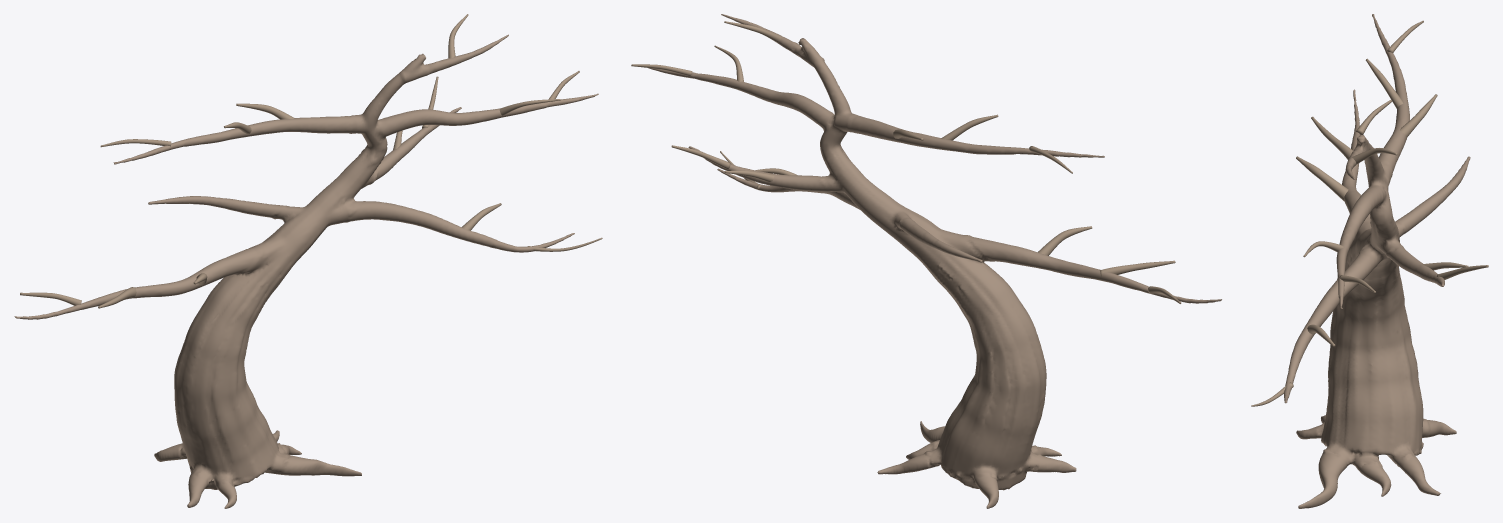
File: pine005-h24-refined.glb
3 renders of one model, left to right at view 1: azimuth 30°, elevation 25°; view 2: azimuth 150°, elevation 25°; view 3: azimuth 270°, elevation 25°, orthographic. The views are drawn at different scales.
Parts seen in each view (by area): view 1: H24__H23_CONTINUOUS_TRUNK_MAJOR_BRANCHES_BUTTRESS_ROOTS; view 2: H24__H23_CONTINUOUS_TRUNK_MAJOR_BRANCHES_BUTTRESS_ROOTS; view 3: H24__H23_CONTINUOUS_TRUNK_MAJOR_BRANCHES_BUTTRESS_ROOTS, H24__H23__TWIG left-3, H24__H23__TWIG upper-left-1, H24__H23__TWIG upper-left-3, H24__H23__TWIG left-1, H24__H23__TWIG apex-1, H24__H23__TWIG middle-right-2.
Part boxes in pixels (x1,y1,x2,y2): H24__H23_CONTINUOUS_TRUNK_MAJOR_BRANCHES_BUTTRESS_ROOTS: (14,34,598,508); H24__H23_CONTINUOUS_TRUNK_MAJOR_BRANCHES_BUTTRESS_ROOTS: (648,14,1221,508); H24__H23_CONTINUOUS_TRUNK_MAJOR_BRANCHES_BUTTRESS_ROOTS: (1284,14,1470,508); H24__H23__TWIG left-3: (1296,156,1348,200); H24__H23__TWIG upper-left-1: (1365,58,1403,108); H24__H23__TWIG upper-left-3: (1400,94,1437,137); H24__H23__TWIG left-1: (1311,116,1353,159); H24__H23__TWIG apex-1: (1352,148,1397,164); H24__H23__TWIG middle-right-2: (1436,265,1488,279).
Size of the model in its own units: 12.36 by 8.1 by 3.96.
